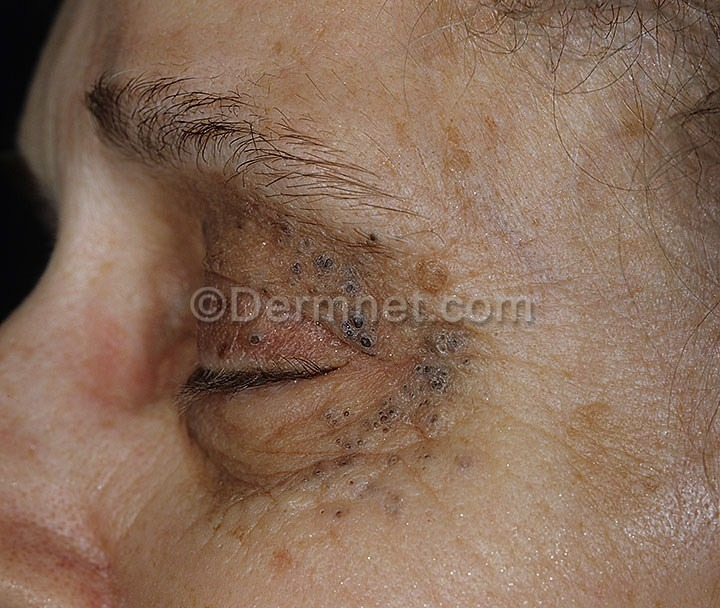Melasma: (165, 325, 554, 594), (173, 181, 486, 291)
